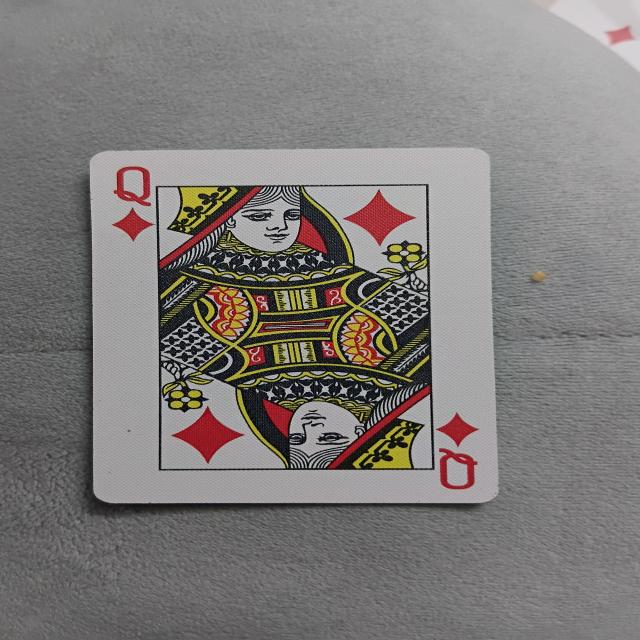QD: (86, 138, 505, 513)
